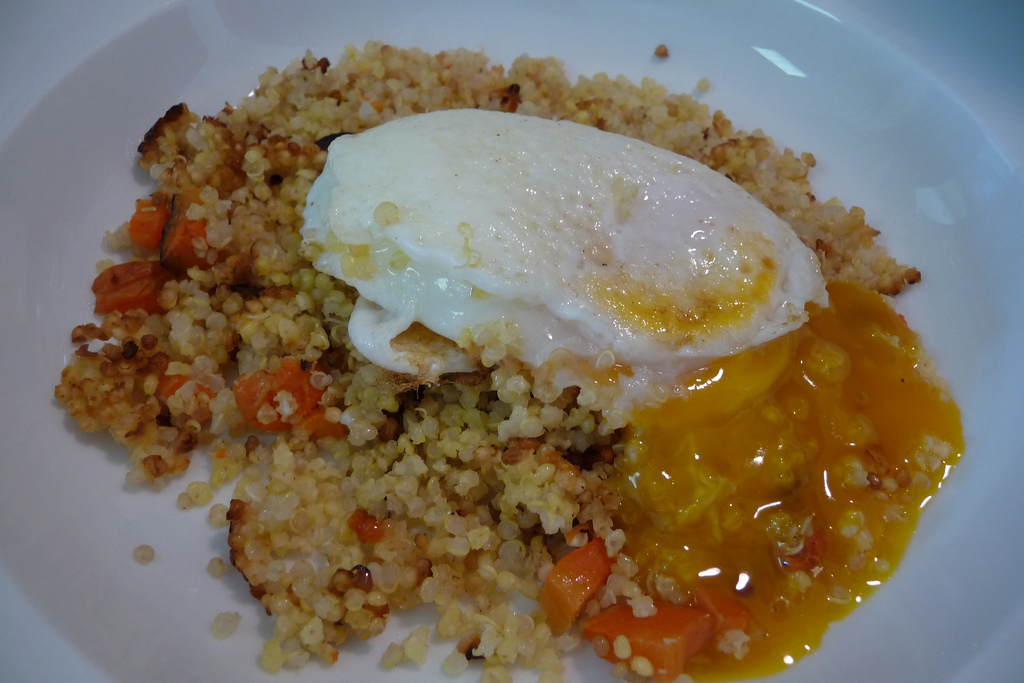fried egg: (333, 148, 876, 452)
plain rice: (100, 137, 368, 632)
